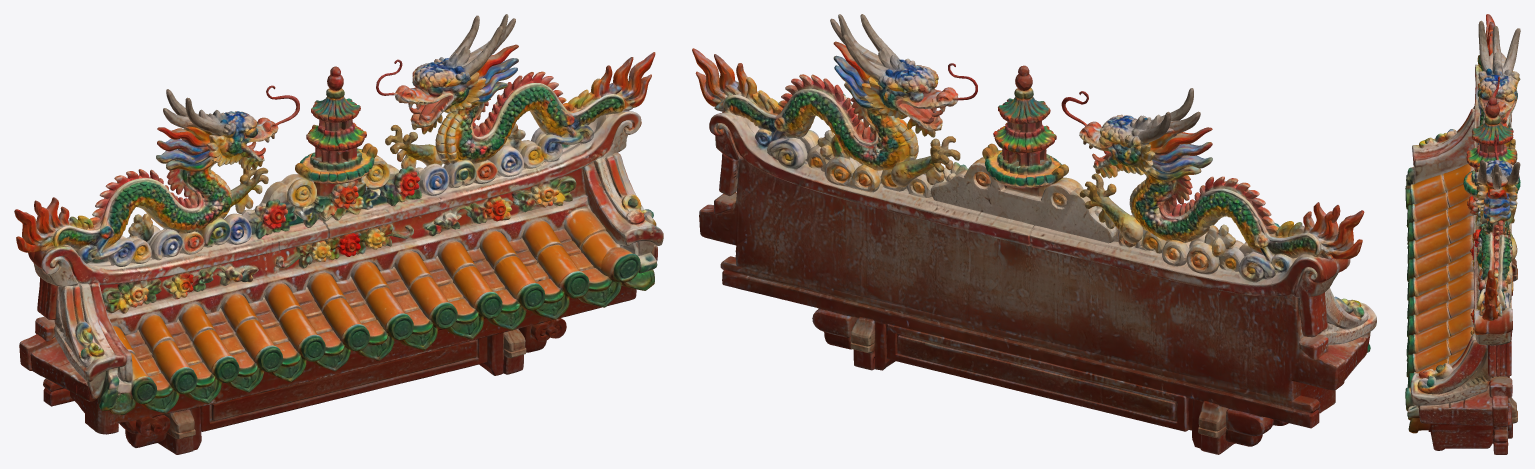
File: roof-dragons.glb
3 renders of one model, left to right at view 1: azimuth 30°, elevation 25°; view 2: azimuth 150°, elevation 25°; view 3: azimuth 270°, elevation 25°, orthographic. The views are drawn at different scales.
Parts seen in each view (by area): view 1: model; view 2: model; view 3: model.
Part boxes in pixels (<box>): model: <box>14,14,663,454</box>; model: <box>692,14,1376,454</box>; model: <box>1405,14,1520,454</box>.
Size of the model in its own units: 1.89 by 0.9256 by 0.3366.
Materials: 1 (1 with a texture image).
